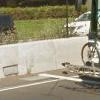Bicycle: (80, 29, 98, 73)
